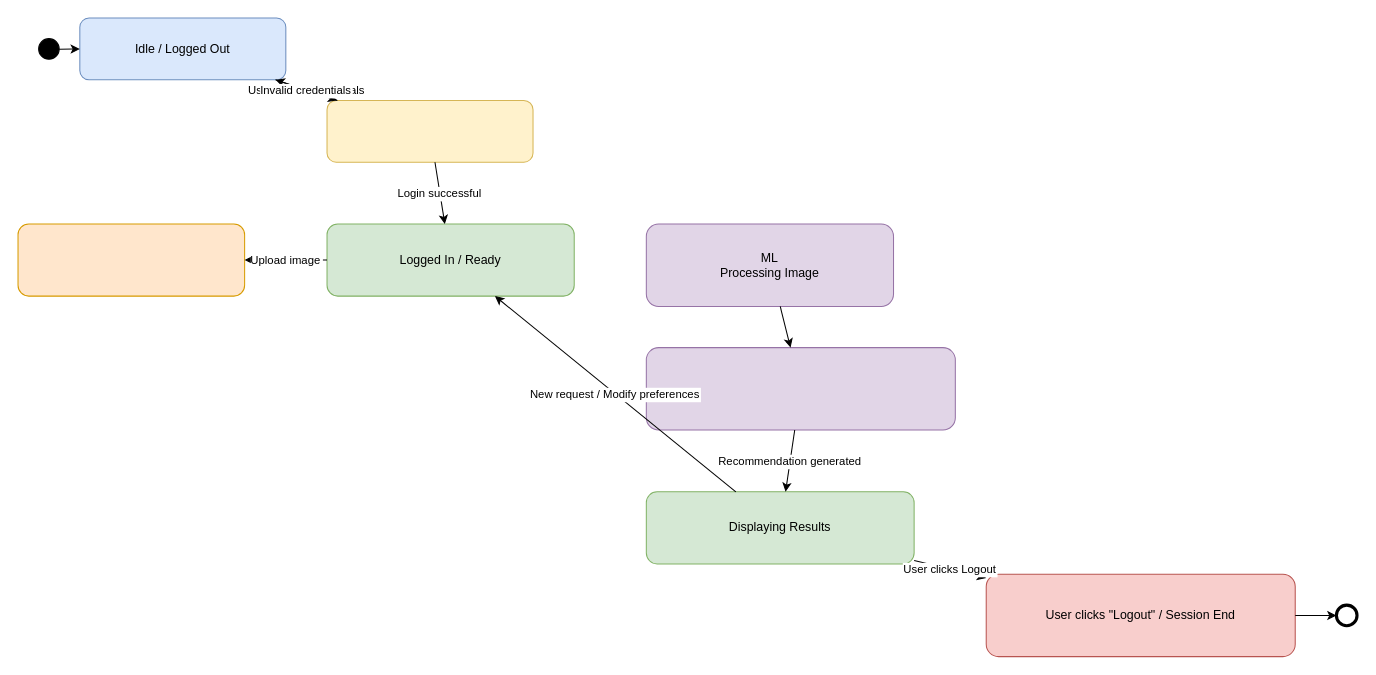
Some shapes in this 1376 by 675 pixel diagram are drawn without their labels. Each missing label, with the box of its shape:
Generating Recommendations: (645, 347, 955, 430)
Image Uploading: (17, 223, 245, 296)
User Login: (326, 99, 533, 162)
